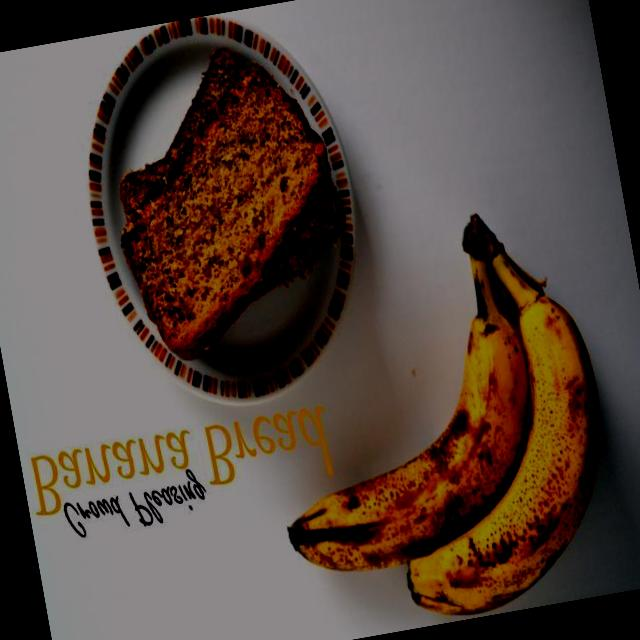Banana: (224, 192, 637, 632)
